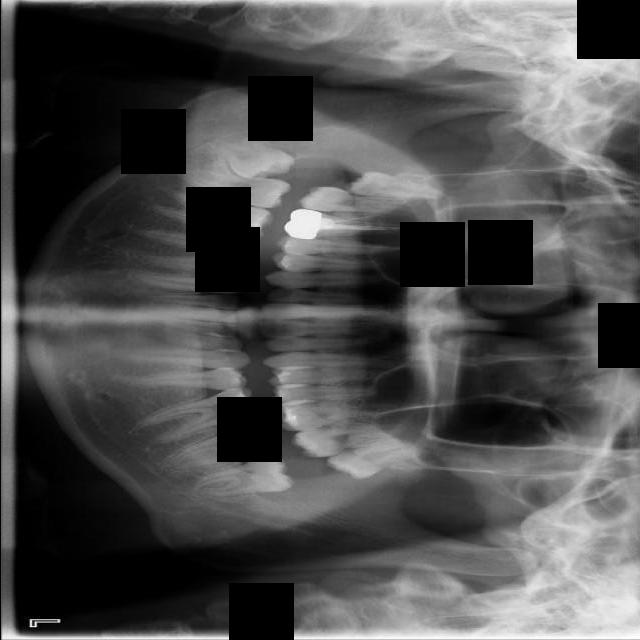3M ESPE Implant: (342, 168, 452, 205)
52: (210, 378, 266, 434), (231, 412, 283, 467), (273, 398, 319, 435), (280, 205, 324, 243), (269, 249, 312, 274), (266, 365, 310, 389), (270, 383, 312, 407), (274, 234, 315, 257)
73: (313, 208, 419, 239), (8, 624, 22, 632)
BioHorizons Implant: (287, 418, 414, 461)
BioLife Implant: (323, 430, 438, 486)
Biomet 3i Implant: (188, 452, 296, 503)
Blue Sky Bio Implant: (159, 417, 283, 477)
Caries: (298, 184, 424, 218)
Implant: (177, 167, 294, 211)
Keystone Dental Implant: (197, 113, 297, 199)
